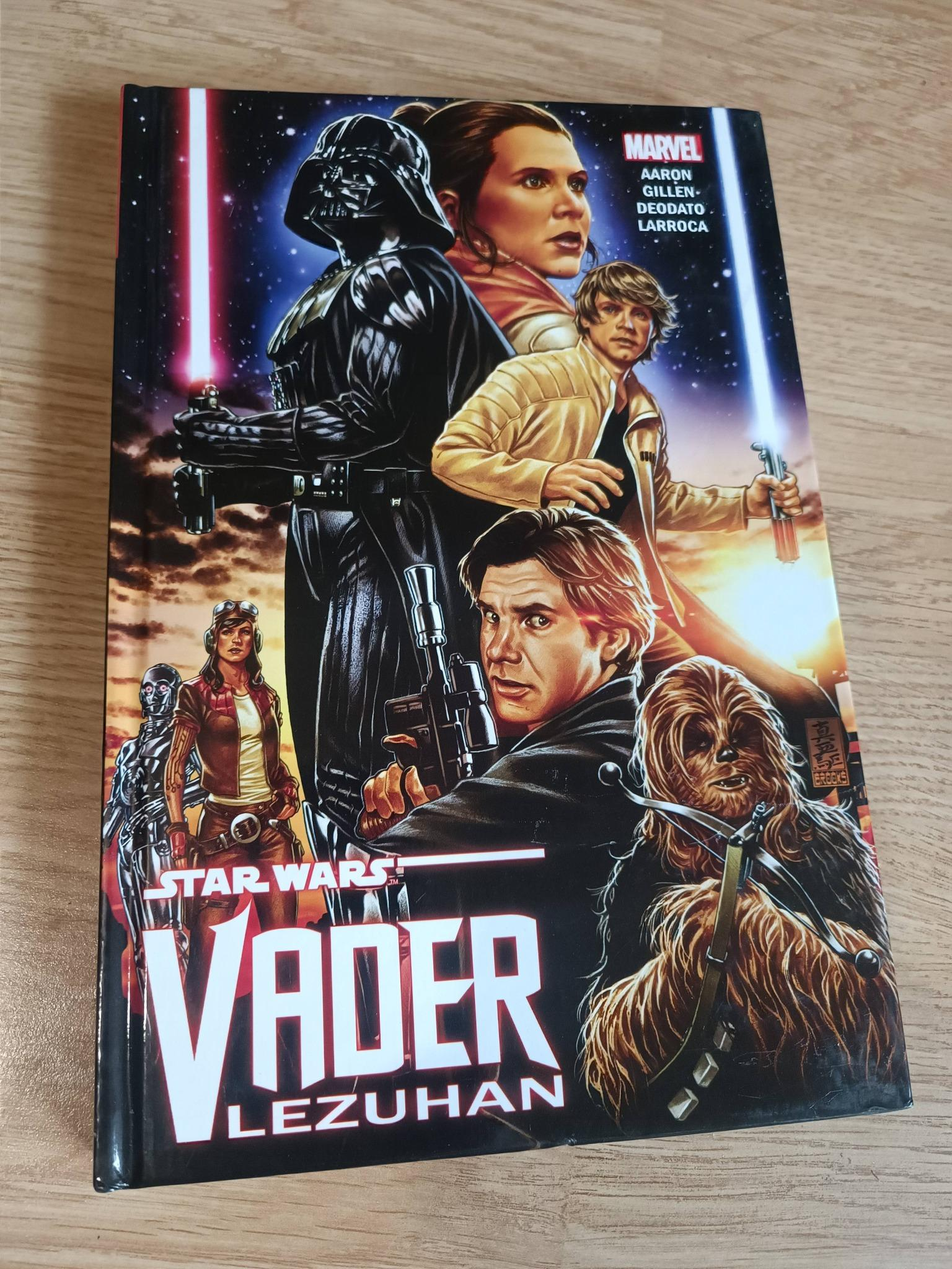comic: (95, 86, 931, 1206)
